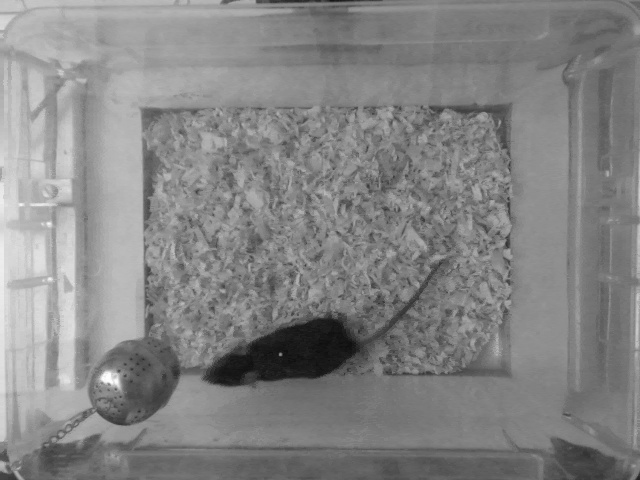mice: (200, 256, 446, 390)
